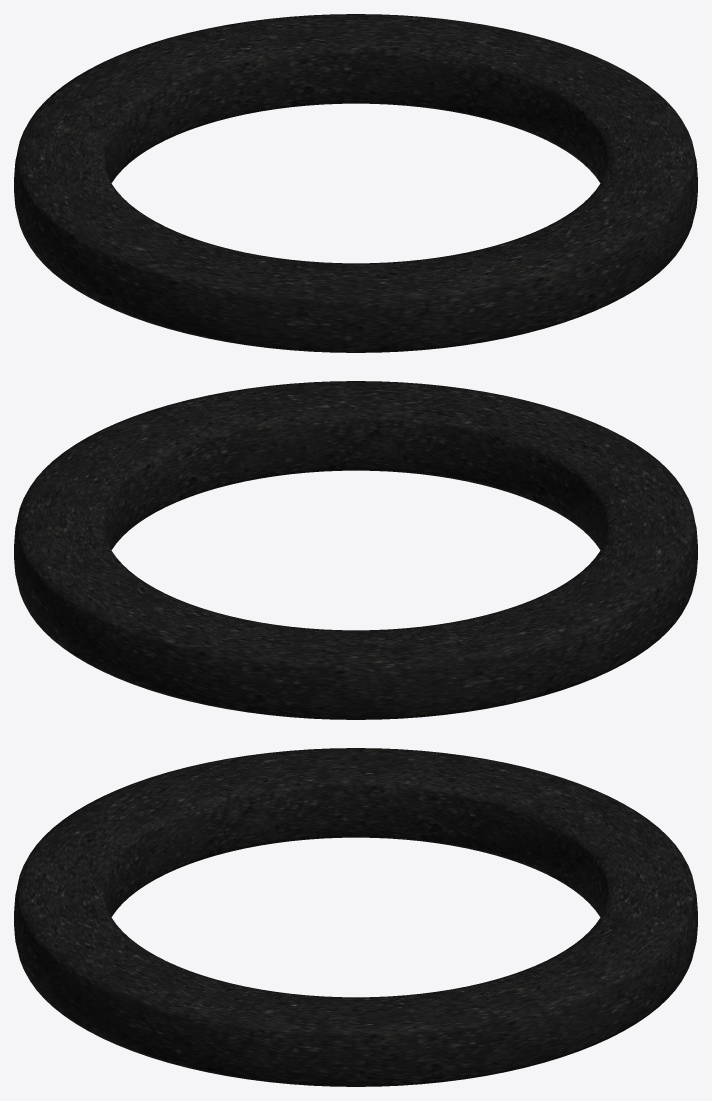
Rendered from yinsh-ring-black.glb.
3 views of the same model, one above another, from view 1: azimuth 30°, elevation 25°; view 2: azimuth 150°, elevation 25°; view 3: azimuth 270°, elevation 25° (orthographic).
Visible parts, largest first — view 1: yinsh-ring-black; view 2: yinsh-ring-black; view 3: yinsh-ring-black.
Boxes of the visible parts, left/top/right/bottom form: yinsh-ring-black: left=14, top=14, right=697, bottom=352; yinsh-ring-black: left=14, top=381, right=697, bottom=719; yinsh-ring-black: left=14, top=748, right=697, bottom=1086.
Bounding box in the file's own units: 0.032 × 0.00306 × 0.032.
Materials: 1 (1 with a texture image).
